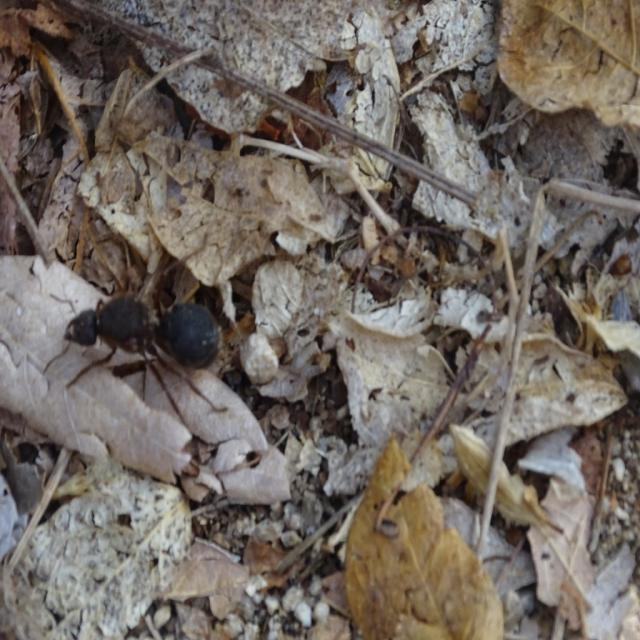Alive-Female-Dealate: (43, 222, 228, 428)
